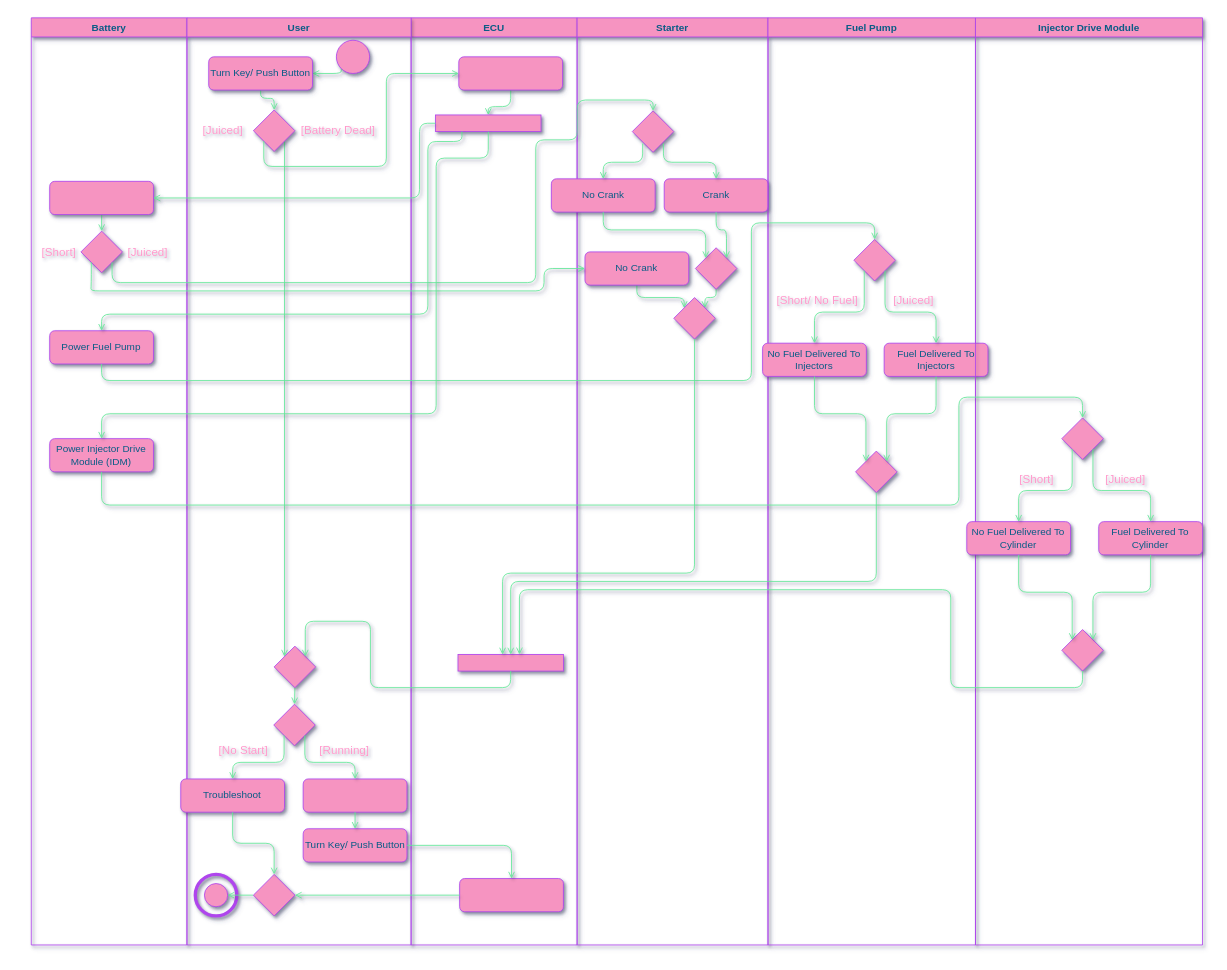
Some shapes in this 1227 by 970 pixel diagram are drawn without their labels. Here are the shapes that lost their labels. From the top down, the centre of each, then its label:
(511,74): ECU To Start Car
(653,132): [Solenoid Out] [Juiced]
(102,198): Power Starter
(355,796): Drive
(512,896): Shut Down Vehicle
